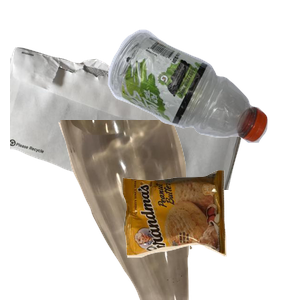glass: (56, 120, 241, 300)
paper: (10, 45, 250, 225)
plastic: (105, 27, 300, 162)
trash: (120, 168, 300, 300)
